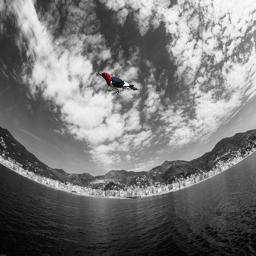Woodpecker: (94, 71, 139, 96)
